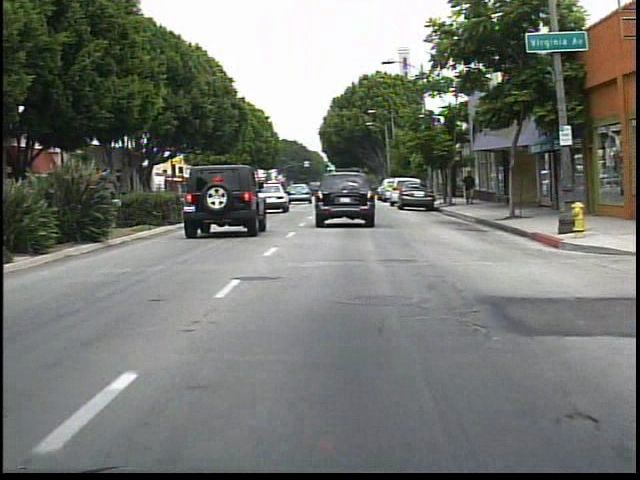person: (459, 168, 480, 208)
